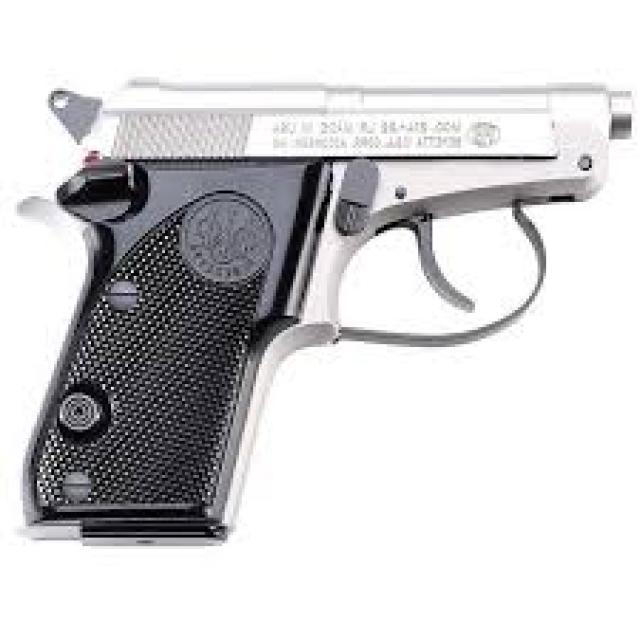pistol: (7, 68, 640, 552)
